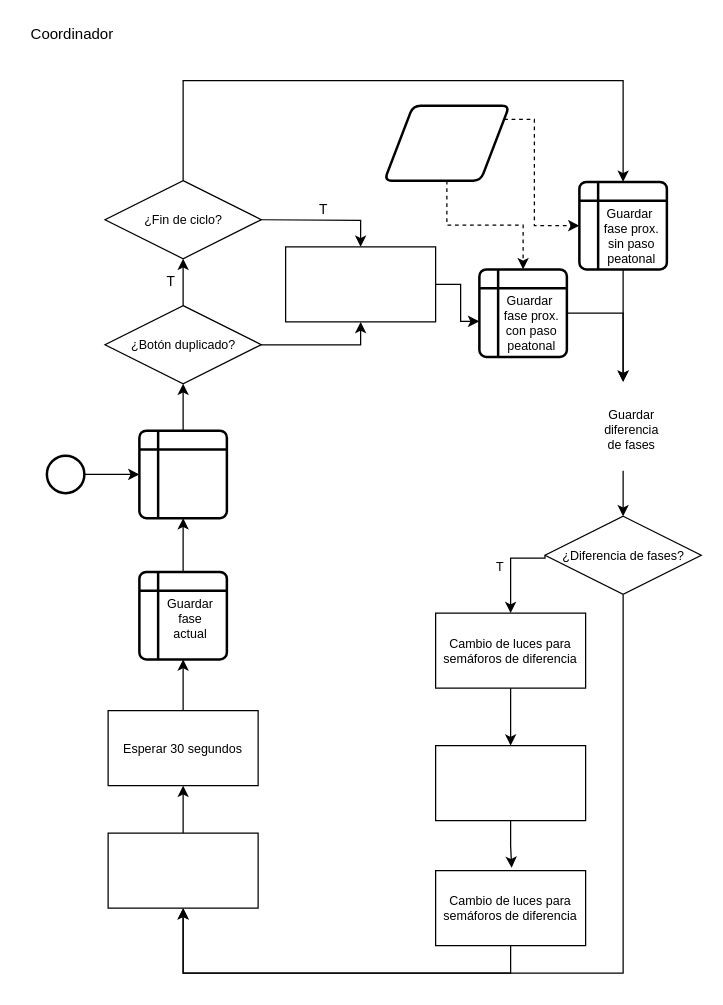
Some shapes in this 723 by 1005 pixel diagram are drawn without their labels. Here are the shapes that lost their labels. From the top down, the box of each, then its label:
(382, 104, 510, 181): Fases y Orden
(284, 246, 436, 322): Activar escritura de botón
(138, 429, 228, 519): Actualizar no. de fase de ciclo
(434, 744, 586, 821): Esperar tres segundos
(107, 832, 258, 908): Cambio de luces para semáforos de fase próxima
